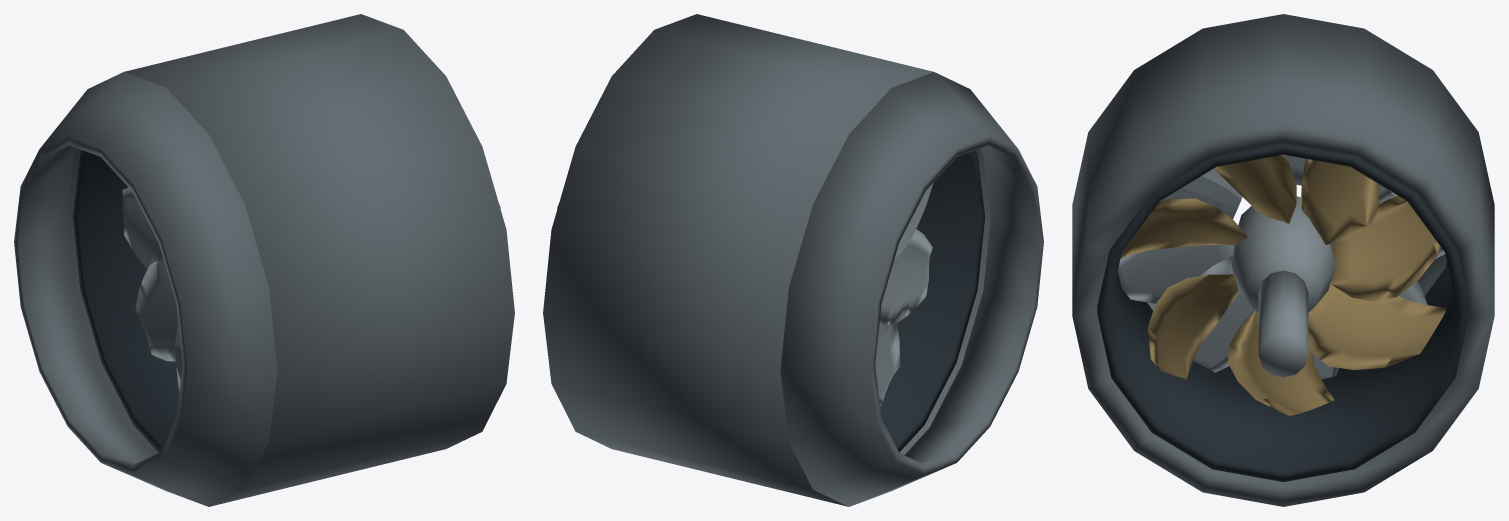
The model's file is FR_PJ_Suffren_LOD2.fbx.
3 views of the same model, side by side, from view 1: azimuth 30°, elevation 25°; view 2: azimuth 150°, elevation 25°; view 3: azimuth 270°, elevation 25° (orthographic). The views are drawn at different scales.
Visible parts, largest first — view 1: FR_PJ_Suffren_LOD2_Housing.001, FR_PJ_Suffren_LOD2_Nozzle.001, FR_PJ_Suffren_LOD2_Lining.001, FR_PJ_Suffren_LOD2_Stator_08.001, FR_PJ_Suffren_LOD2_Stator_00.001; view 2: FR_PJ_Suffren_LOD2_Housing.001, FR_PJ_Suffren_LOD2_Nozzle.001, FR_PJ_Suffren_LOD2_Lining.001, FR_PJ_Suffren_LOD2_Stator_05.001, FR_PJ_Suffren_LOD2_Stator_06.001, FR_PJ_Suffren_LOD2_Stator_04.001; view 3: FR_PJ_Suffren_LOD2_Housing.001, FR_PJ_Suffren_LOD2_Lining.001, FR_PJ_Suffren_LOD2_Rotor_06.001, FR_PJ_Suffren_LOD2_Rotor_00.001, FR_PJ_Suffren_LOD2_Hub.001, FR_PJ_Suffren_LOD2_Rotor_04.001, FR_PJ_Suffren_LOD2_Rotor_01.001, FR_PJ_Suffren_LOD2_Shaft.001, FR_PJ_Suffren_LOD2_Rotor_05.001, FR_PJ_Suffren_LOD2_Rotor_03.001, FR_PJ_Suffren_LOD2_Stator_05.001, FR_PJ_Suffren_LOD2_Rotor_02.001 (+3 smaller).
Part boxes in pixels (x1,y1,x2,y2): FR_PJ_Suffren_LOD2_Housing.001: [67, 14, 514, 506]; FR_PJ_Suffren_LOD2_Nozzle.001: [14, 72, 277, 506]; FR_PJ_Suffren_LOD2_Lining.001: [73, 150, 179, 452]; FR_PJ_Suffren_LOD2_Stator_08.001: [135, 260, 178, 361]; FR_PJ_Suffren_LOD2_Stator_00.001: [122, 187, 171, 288]; FR_PJ_Suffren_LOD2_Housing.001: [543, 14, 990, 506]; FR_PJ_Suffren_LOD2_Nozzle.001: [780, 72, 1043, 506]; FR_PJ_Suffren_LOD2_Lining.001: [880, 150, 984, 452]; FR_PJ_Suffren_LOD2_Stator_05.001: [879, 229, 932, 325]; FR_PJ_Suffren_LOD2_Stator_06.001: [875, 293, 899, 405]; FR_PJ_Suffren_LOD2_Stator_04.001: [894, 183, 933, 258]; FR_PJ_Suffren_LOD2_Housing.001: [1072, 14, 1494, 506]; FR_PJ_Suffren_LOD2_Lining.001: [1097, 145, 1469, 481]; FR_PJ_Suffren_LOD2_Rotor_06.001: [1308, 281, 1445, 370]; FR_PJ_Suffren_LOD2_Rotor_00.001: [1331, 196, 1440, 301]; FR_PJ_Suffren_LOD2_Hub.001: [1231, 196, 1335, 312]; FR_PJ_Suffren_LOD2_Rotor_04.001: [1147, 274, 1239, 379]; FR_PJ_Suffren_LOD2_Rotor_01.001: [1300, 158, 1379, 244]; FR_PJ_Suffren_LOD2_Shaft.001: [1258, 270, 1308, 377]; FR_PJ_Suffren_LOD2_Rotor_05.001: [1227, 310, 1334, 415]; FR_PJ_Suffren_LOD2_Rotor_03.001: [1120, 198, 1247, 258]; FR_PJ_Suffren_LOD2_Stator_05.001: [1118, 245, 1233, 303]; FR_PJ_Suffren_LOD2_Rotor_02.001: [1213, 155, 1296, 223].
Size of the model in its own units: 534 by 530 by 530.
